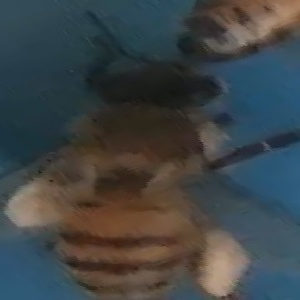bee: (18, 59, 285, 300), (183, 2, 300, 52)
